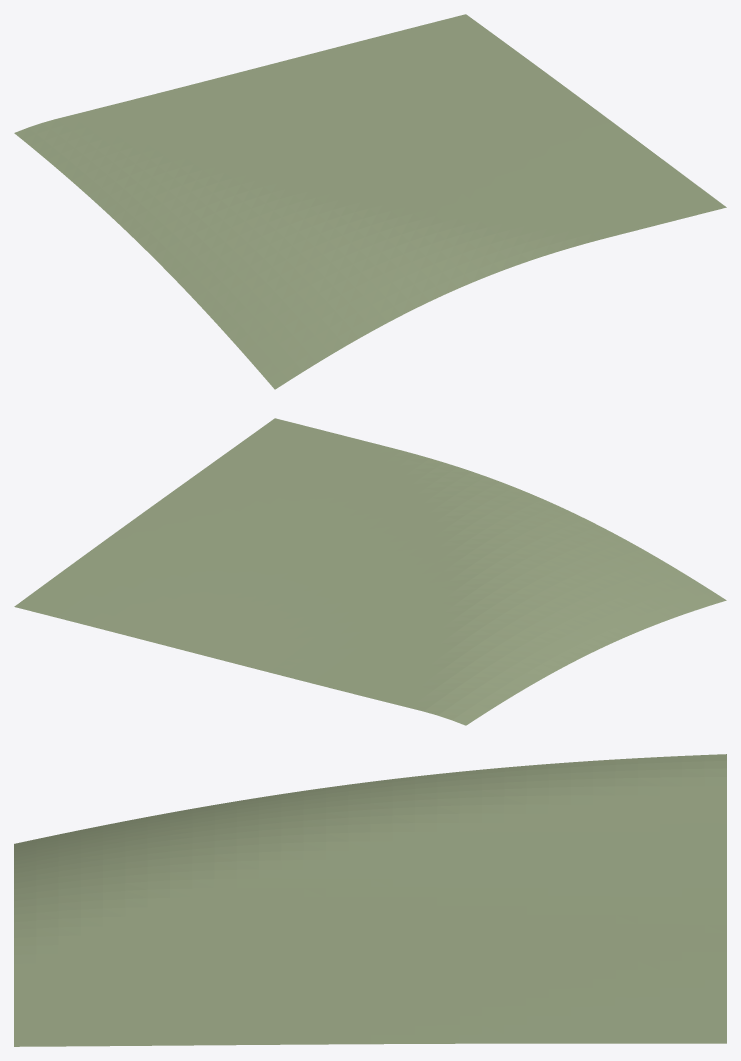
Rendered from desert-19-19.glb.
3 renders of one model, top to bottom at view 1: azimuth 30°, elevation 25°; view 2: azimuth 150°, elevation 25°; view 3: azimuth 270°, elevation 25°, orthographic. The views are drawn at different scales.
Parts seen in each view (by area): view 1: desert-19-19; view 2: desert-19-19; view 3: desert-19-19.
Boxes of the visible parts, box(x1,y1,x2,y2) form: desert-19-19: box(14, 14, 726, 389); desert-19-19: box(14, 418, 726, 725); desert-19-19: box(14, 754, 726, 1046).
Bounding box in the file's own units: 512 × 80.57 × 512.
